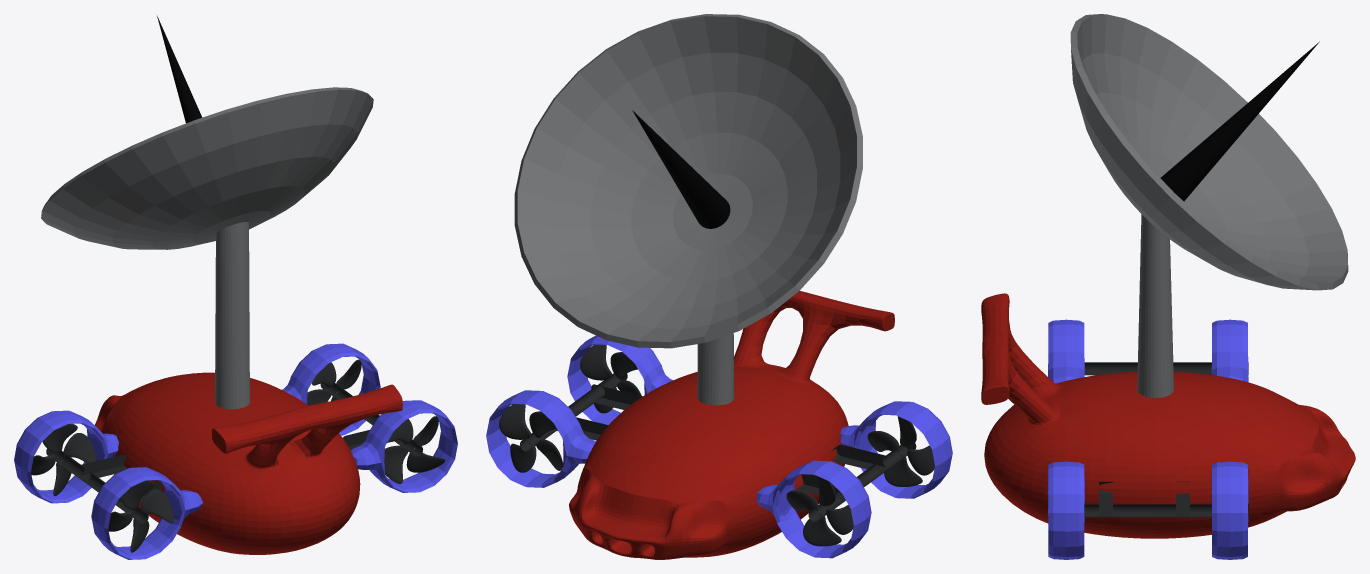
The model's file is scout.glb.
3 renders of one model, left to right at view 1: azimuth 30°, elevation 25°; view 2: azimuth 150°, elevation 25°; view 3: azimuth 270°, elevation 25°, orthographic. The views are drawn at different scales.
Visible parts, largest first — view 1: Sphere, Cube, Circle.001, Plane.005, Plane.003, wing_r.002, Sphere.001; view 2: Sphere, Cube, Circle.001, Plane.005, wing_r.002, Plane.003, Sphere.001; view 3: Sphere, Cube, Circle.001, Sphere.001, wing_r.002.
Boxes of the visible parts, bbox=[...] form: Sphere: bbox=[41, 87, 373, 409]; Cube: bbox=[95, 372, 402, 554]; Circle.001: bbox=[14, 343, 457, 559]; Plane.005: bbox=[31, 424, 173, 552]; Plane.003: bbox=[307, 359, 445, 483]; wing_r.002: bbox=[46, 383, 422, 523]; Sphere.001: bbox=[157, 15, 202, 123]; Sphere: bbox=[514, 14, 862, 405]; Cube: bbox=[569, 291, 894, 559]; Circle.001: bbox=[486, 335, 952, 558]; Plane.005: bbox=[786, 416, 934, 546]; wing_r.002: bbox=[520, 373, 916, 521]; Plane.003: bbox=[499, 344, 641, 472]; Sphere.001: bbox=[632, 110, 730, 228]; Sphere: bbox=[1070, 14, 1348, 397]; Cube: bbox=[981, 293, 1355, 538]; Circle.001: bbox=[1047, 319, 1248, 559]; Sphere.001: bbox=[1160, 41, 1319, 201]; wing_r.002: bbox=[1084, 362, 1248, 517].
Bounding box in the file's own units: 9.4 × 11.51 × 8.11.
4 materials, 4 textured.
